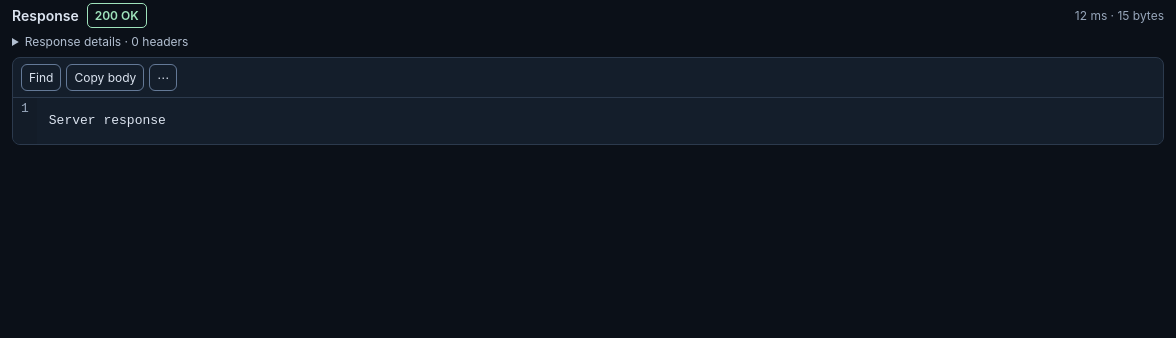
Scenario: keeps status and body available while detailed metadata starts collapsed
Expected: the message "200 OK" is shown, [87,2,147,28]
Expected: the text with class "response-summary" reads "12 ms · 15 bytes", [1075,8,1164,22]
Step 1. Click the heading "Response details · 0 headers" → (100,42), box [12,34,188,49]
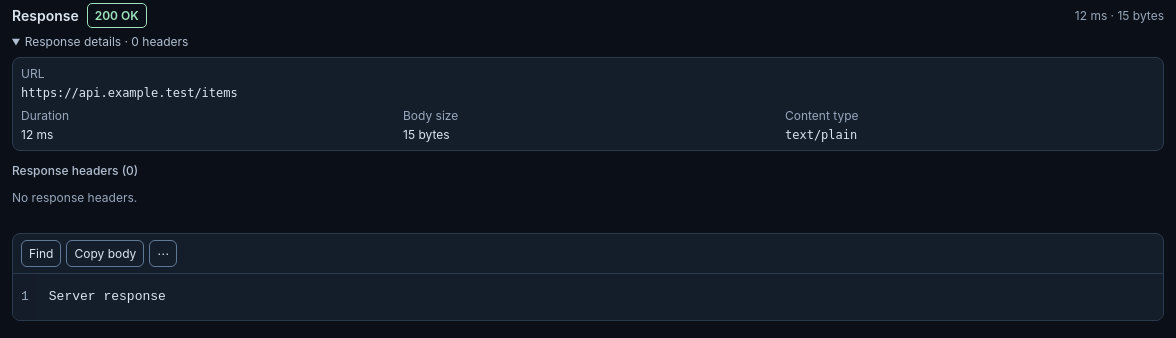
Expected: the message "200 OK" is shown, [87,2,147,28]
Expected: the element with class "response-url" is shown, [21,66,238,100]
